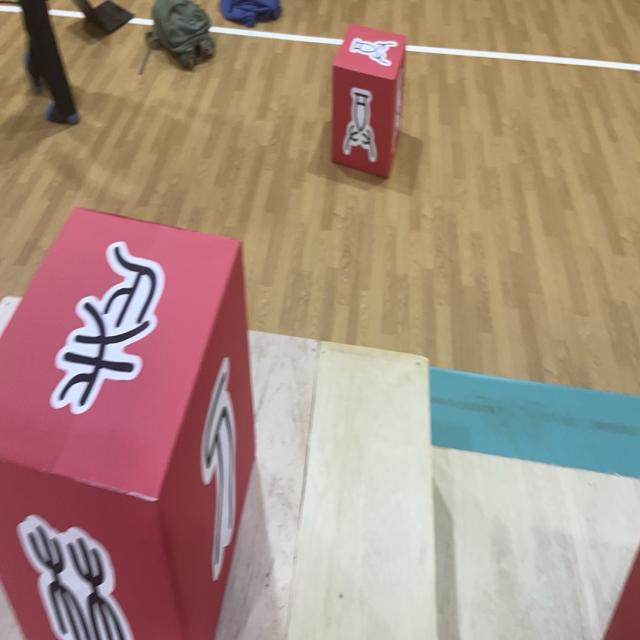1: (50, 239, 166, 415)
2: (15, 512, 136, 640)
3: (202, 356, 238, 580)
8: (341, 86, 379, 162), (343, 86, 378, 164), (348, 34, 398, 68)
fighter: (0, 206, 257, 640), (332, 22, 406, 179), (603, 537, 639, 640)
